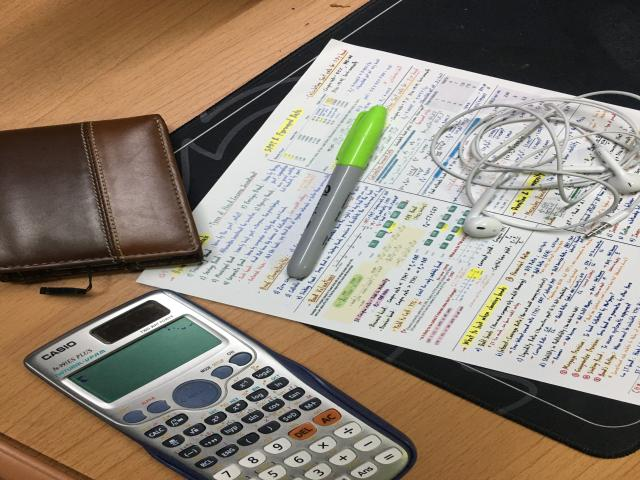Pen: (287, 106, 387, 278)
Wallet: (0, 114, 202, 281)
paper: (138, 41, 640, 405)
wire: (430, 91, 640, 239)
